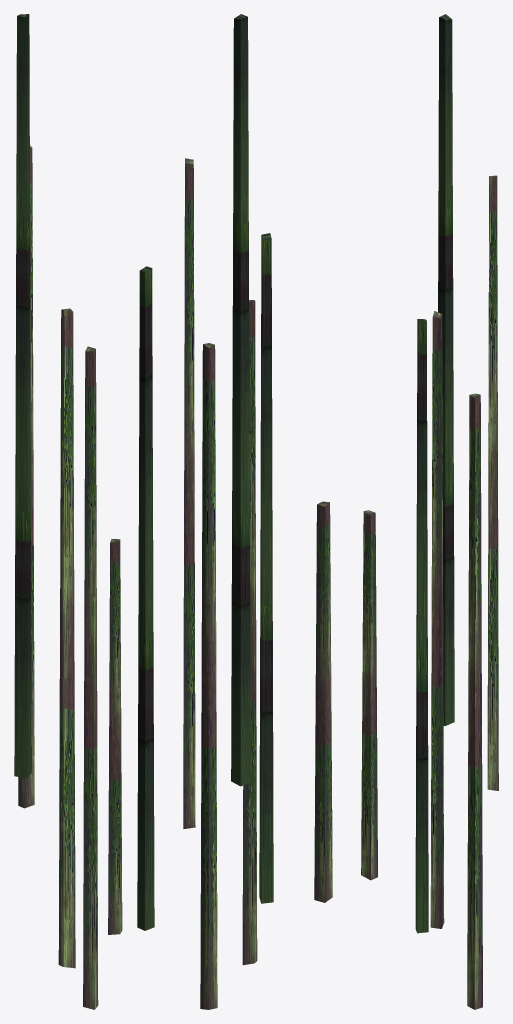
Rendered from Forest_1_VertGrass_1.gltf.
3 renders of one model, left to right at view 1: azimuth 90°, elevation 25°; view 2: azimuth 150°, elevation 25°; view 3: azimuth 330°, elevation 25°, orthographic. The views are drawn at different scales.
Parts seen in each view (by area): view 1: Forest_1_VertGrass_1; view 2: Forest_1_VertGrass_1; view 3: Forest_1_VertGrass_1.
Boxes of the visible parts, left/top/right/bottom form: Forest_1_VertGrass_1: left=14, top=14, right=154, bottom=1009; Forest_1_VertGrass_1: left=183, top=14, right=332, bottom=1009; Forest_1_VertGrass_1: left=361, top=14, right=498, bottom=1009.
Size of the model in its own units: 0.7685 by 6.57 by 0.8142.
Materials: 6 (6 with a texture image).
